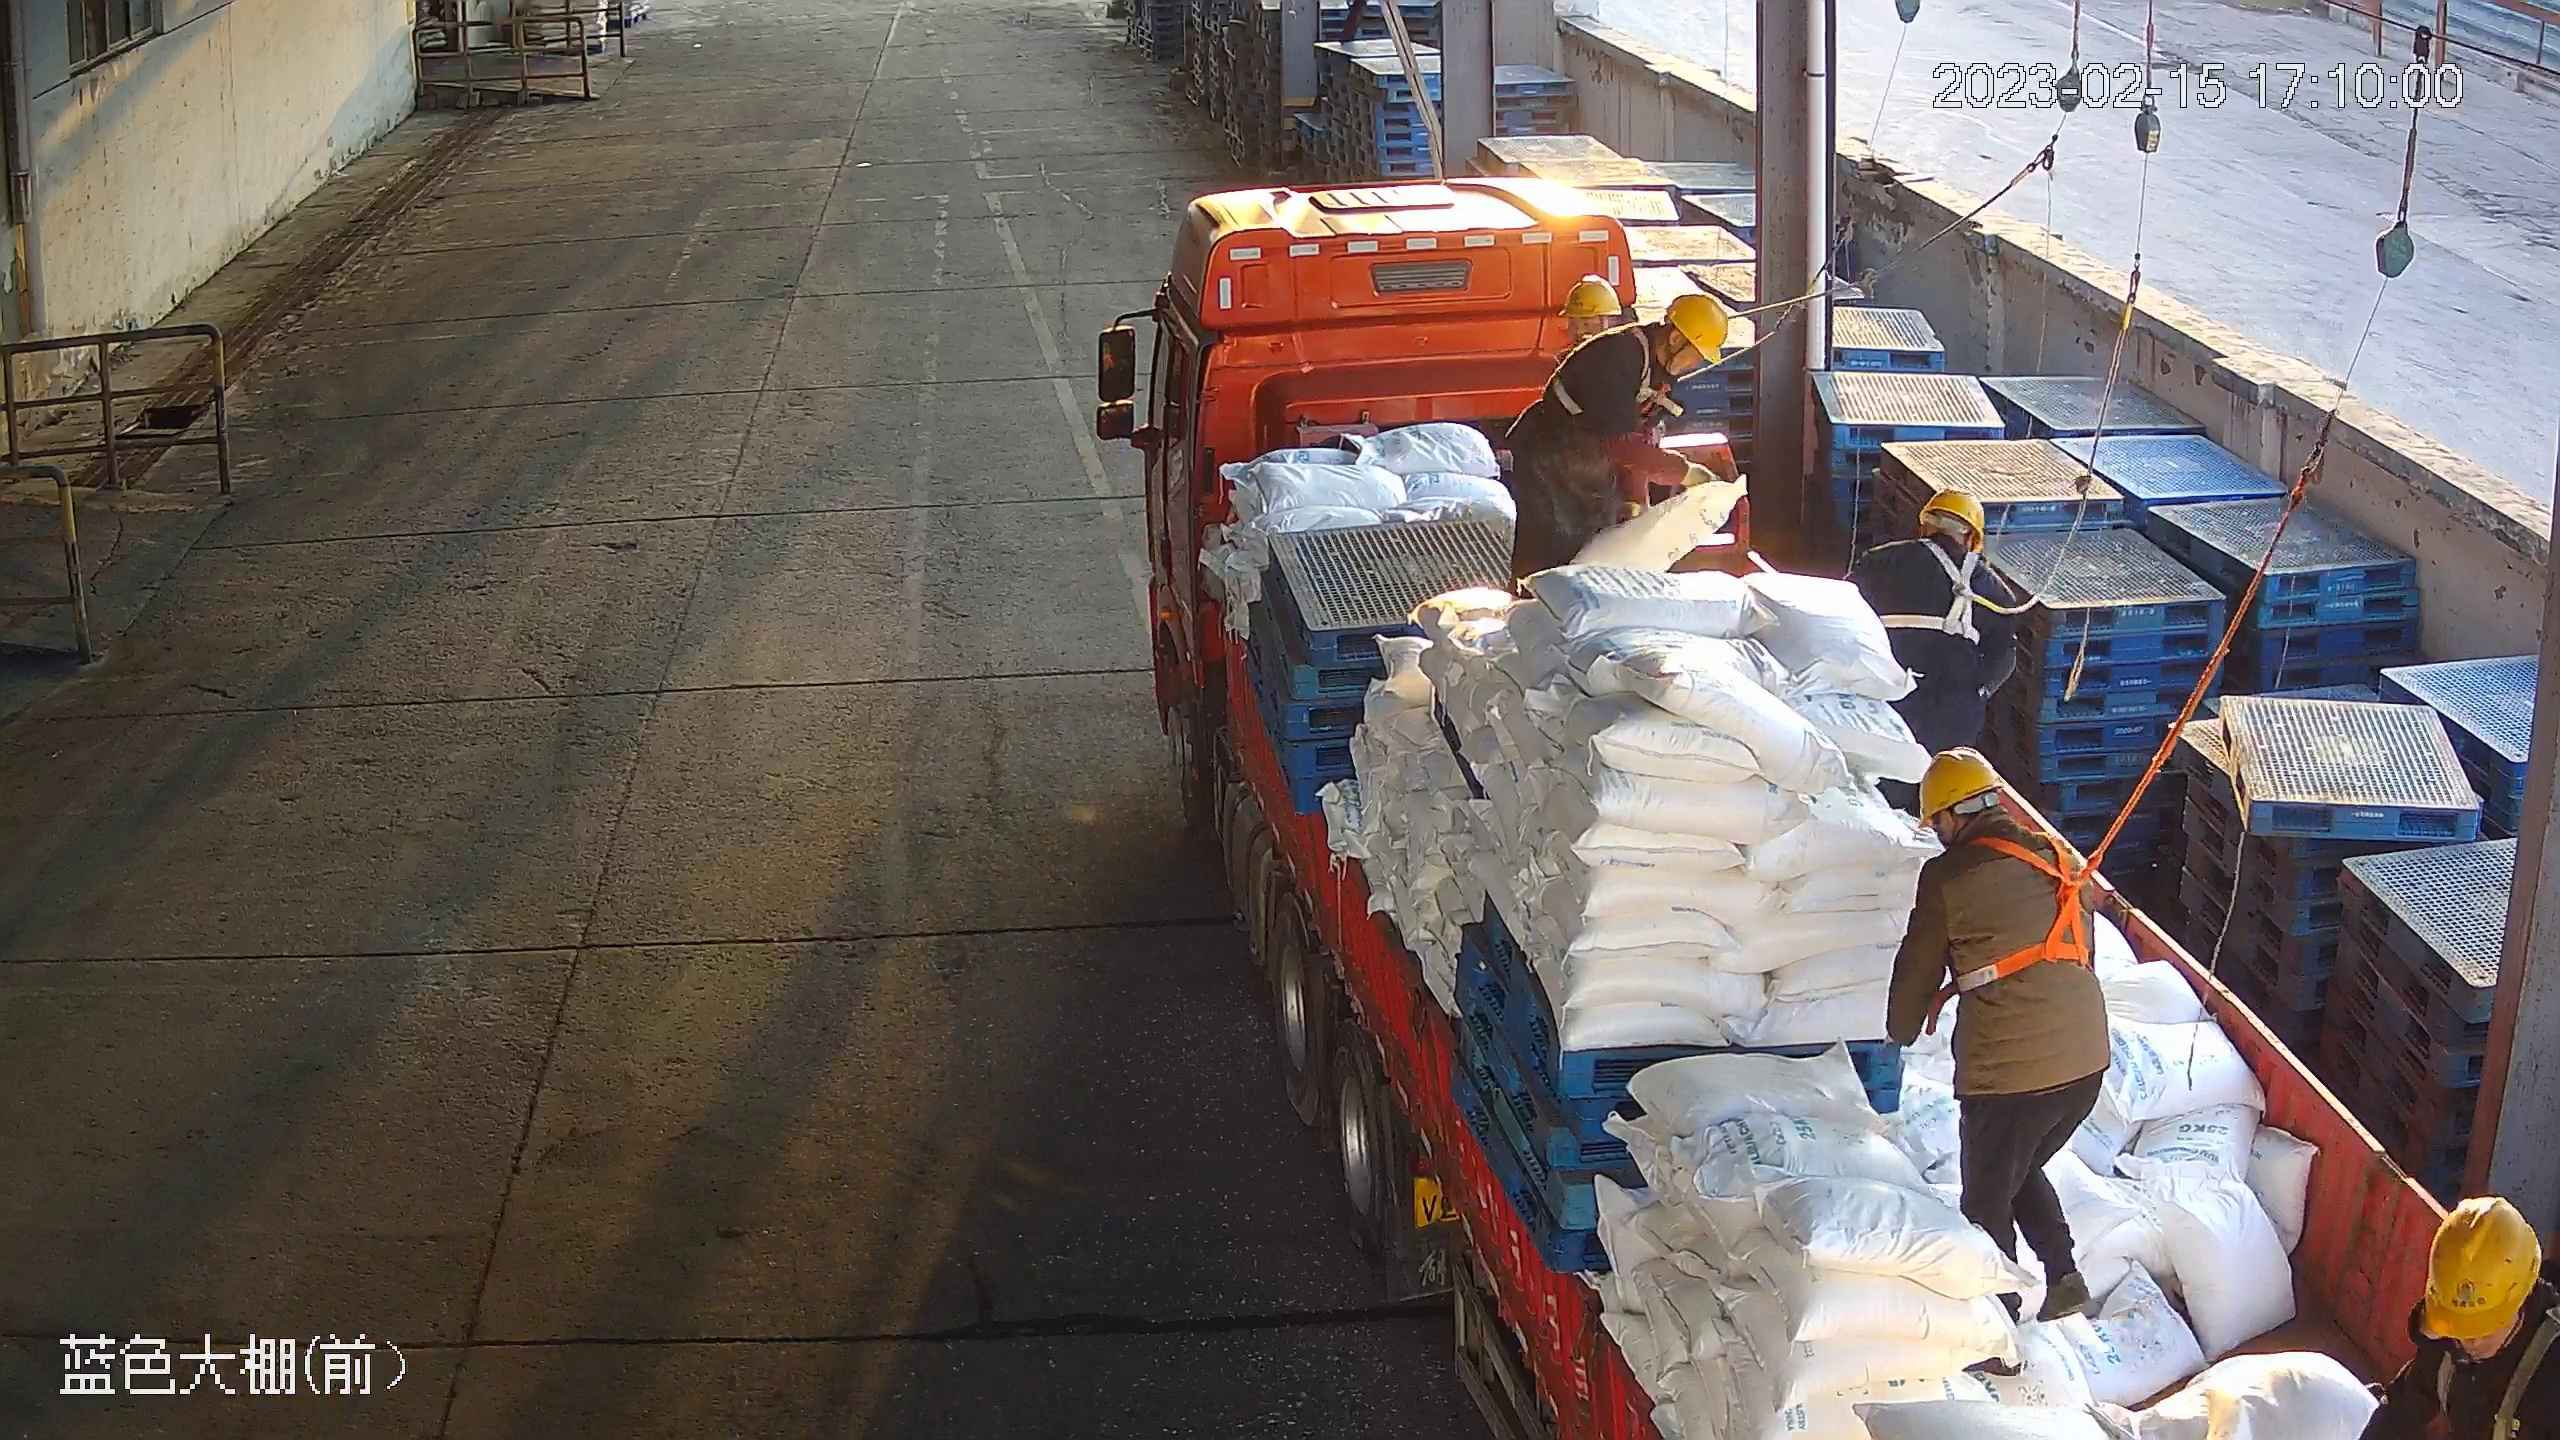belt: (1927, 838, 2104, 986), (2422, 1322, 2556, 1440), (1876, 540, 2022, 645), (1547, 315, 1671, 418)
head: (2371, 1196, 2560, 1440), (1851, 489, 2015, 659), (1583, 294, 1732, 416)
helmet: (2423, 1198, 2542, 1339), (1918, 744, 2003, 827), (1667, 294, 1730, 366), (1917, 489, 1986, 552), (1559, 276, 1624, 320)
people: (1886, 737, 2112, 1369), (1495, 294, 1730, 586)
truck: (1091, 174, 2560, 1440)
